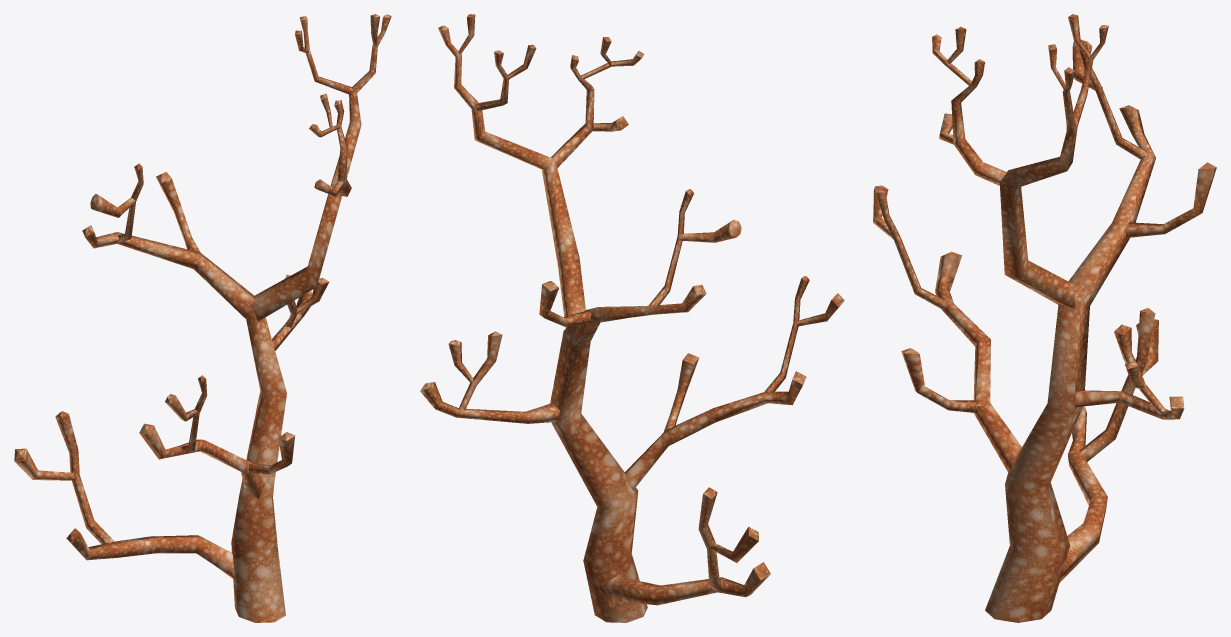
Rendered from environment_grass_seashanhu_001_b.FBX.
3 renders of one model, left to right at view 1: azimuth 30°, elevation 25°; view 2: azimuth 150°, elevation 25°; view 3: azimuth 270°, elevation 25°, orthographic. The views are drawn at different scales.
Visible parts, largest first — view 1: environment_grass_seashanhu_001_b; view 2: environment_grass_seashanhu_001_b; view 3: environment_grass_seashanhu_001_b.
Part boxes in pixels (box(x1,y1,x2,y2)): environment_grass_seashanhu_001_b: box(14, 14, 391, 622); environment_grass_seashanhu_001_b: box(420, 14, 844, 622); environment_grass_seashanhu_001_b: box(873, 14, 1216, 622).
Size of the model in its own units: 240 by 371 by 181.
Materials: 1 (1 with a texture image).
